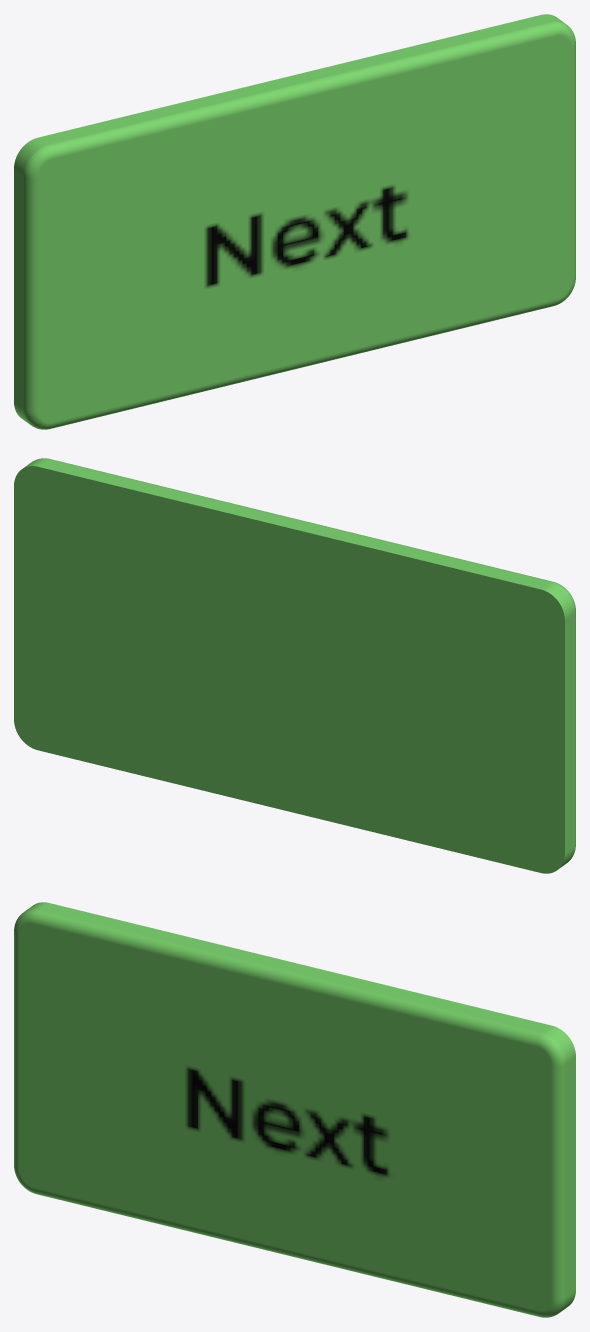
File: BNext.glb
3 views of the same model, one above another, from view 1: azimuth 30°, elevation 25°; view 2: azimuth 150°, elevation 25°; view 3: azimuth 330°, elevation 25° (orthographic).
Parts seen in each view (by area): view 1: ButtonNext; view 2: ButtonNext; view 3: ButtonNext.
Part boxes in pixels (x1,y1,x2,y2): ButtonNext: (14,14,575,429); ButtonNext: (14,458,575,873); ButtonNext: (14,902,575,1317).
Size of the model in its own units: 0.5208 by 0.2562 by 0.0249.
Materials: 1 (1 with a texture image).
